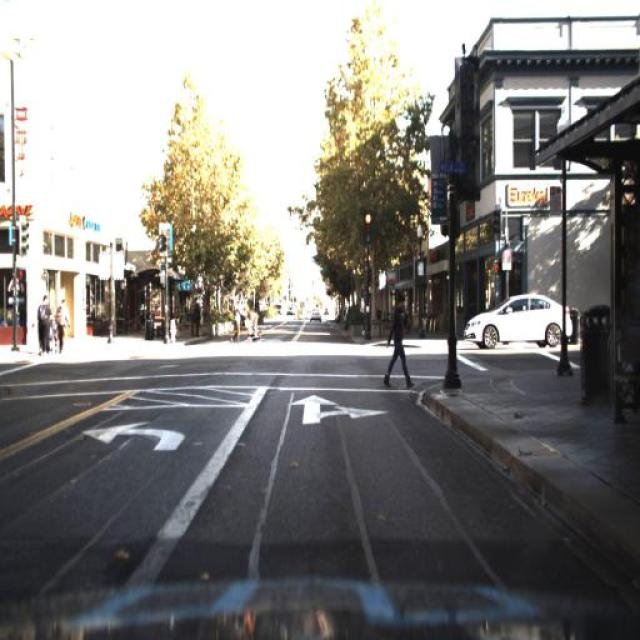car: (455, 289, 576, 356)
trafficLight: (376, 276, 420, 390), (224, 278, 260, 344), (34, 293, 54, 352), (54, 293, 72, 357)
trafficLight-RedLeft: (360, 210, 375, 250), (156, 225, 170, 260)
